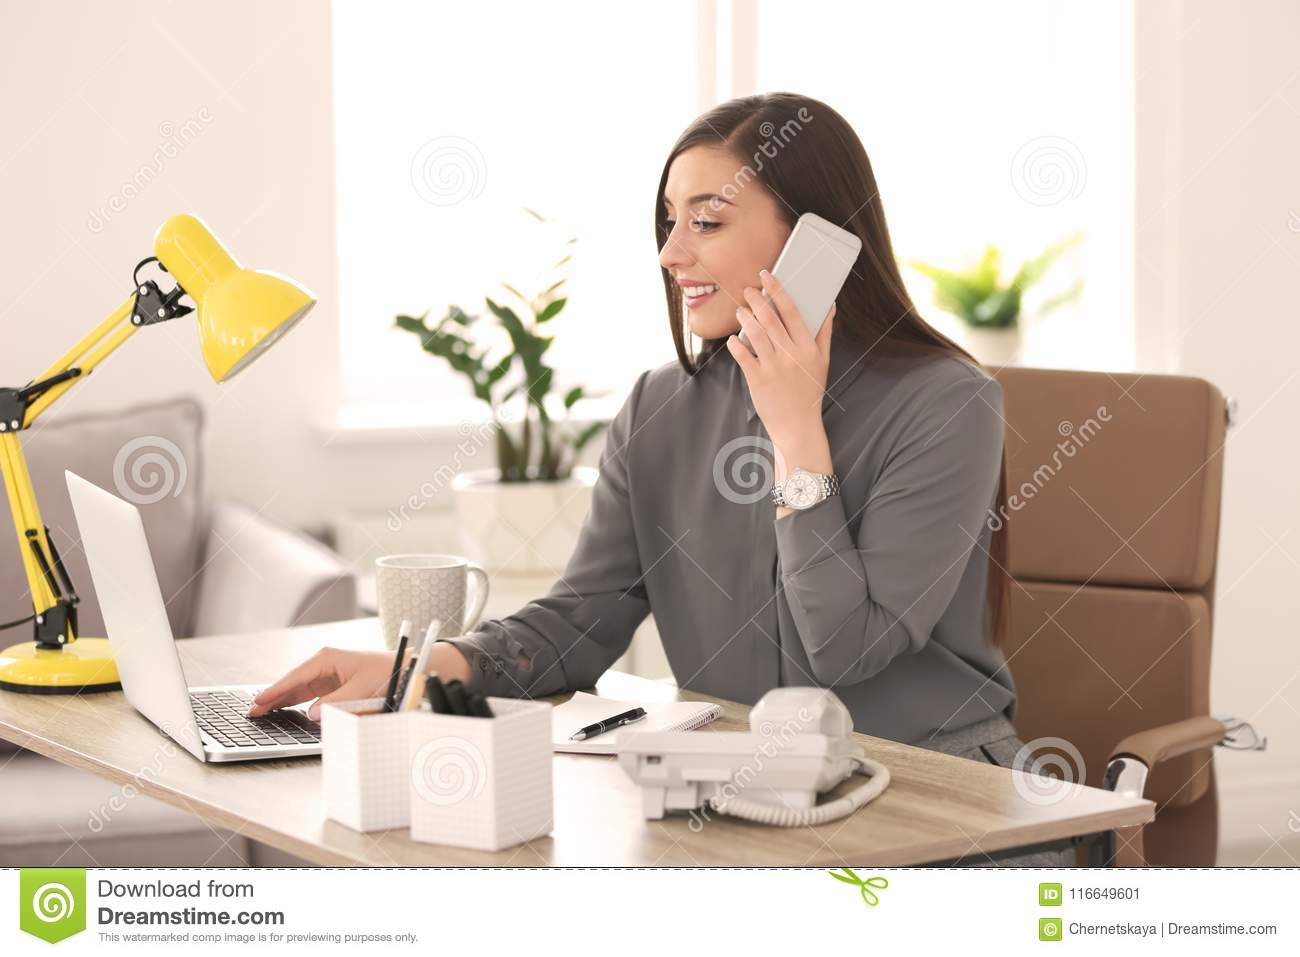phone: (736, 215, 861, 383)
talk: (659, 183, 862, 436)
